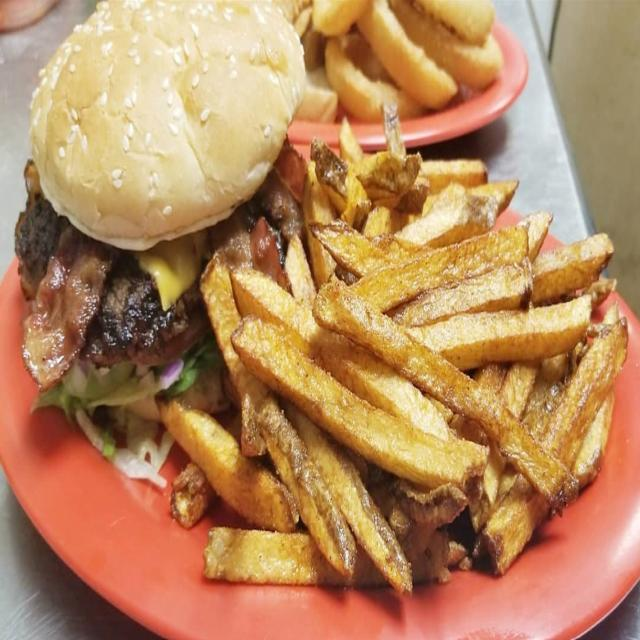Burger: (7, 3, 286, 445)
French Fries: (210, 147, 620, 609)
Onion Rings: (299, 0, 509, 129)
